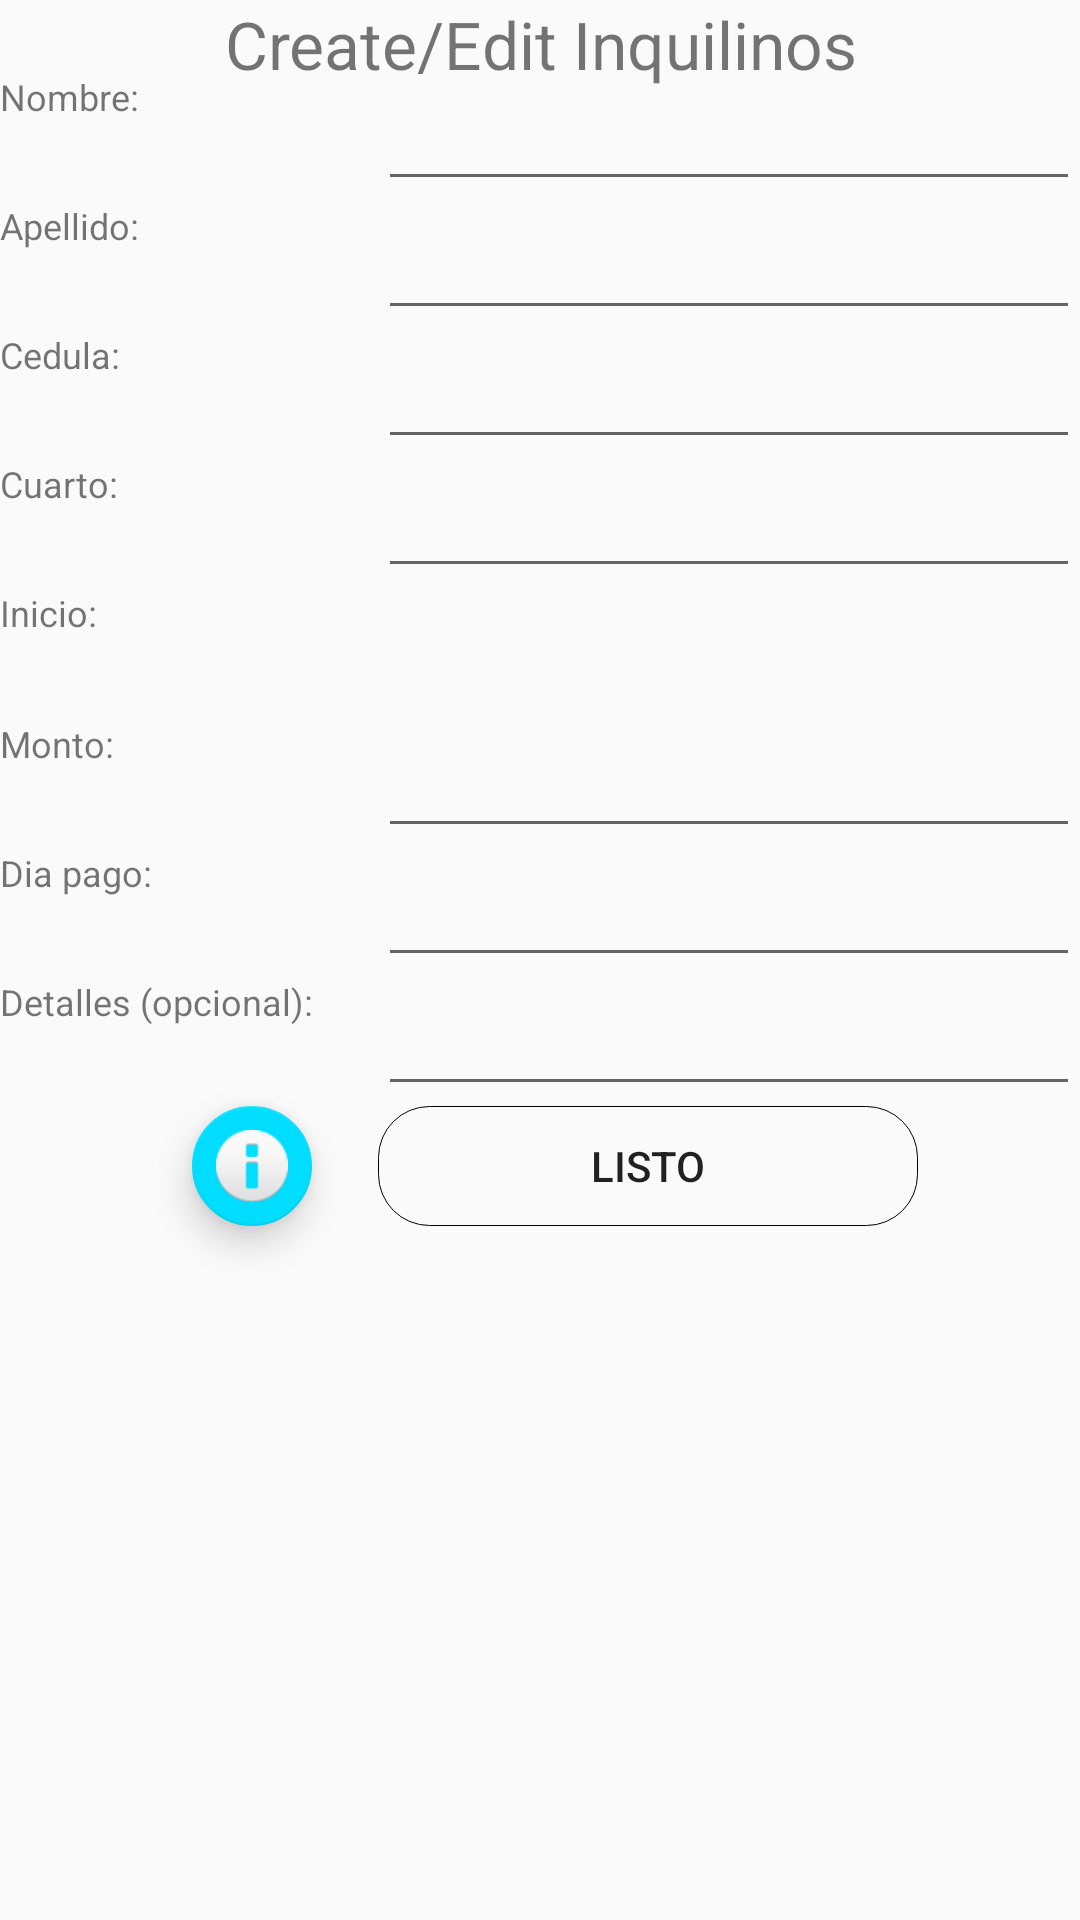

Icons on this 1080 × 1920 Android screen, each with the point to tap as point (x, y):
info: point (252, 1166)
